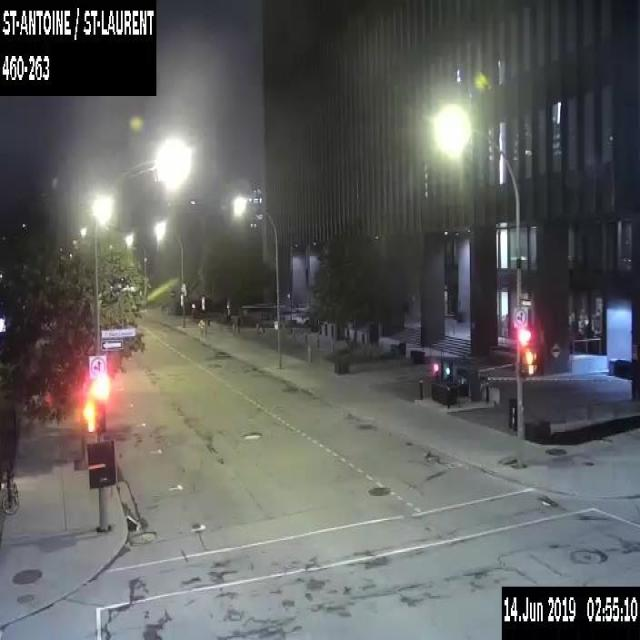vehicle: (0, 466, 21, 518)
